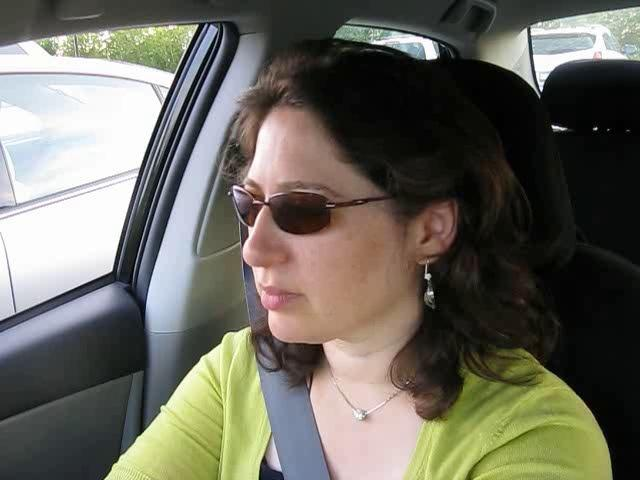no_yawn: (246, 275, 313, 314)
